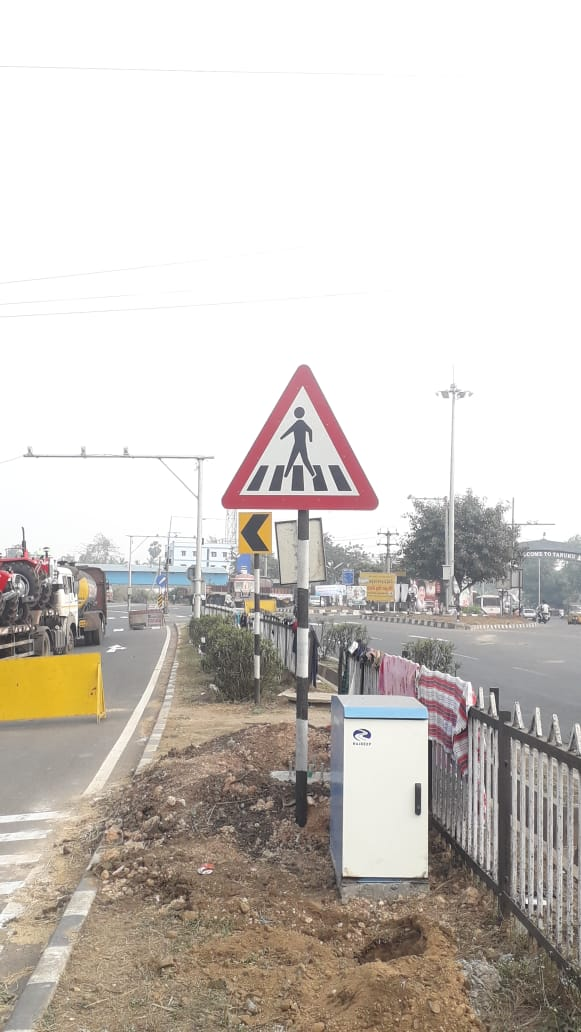pedestrian crossing: (231, 339, 400, 532)
